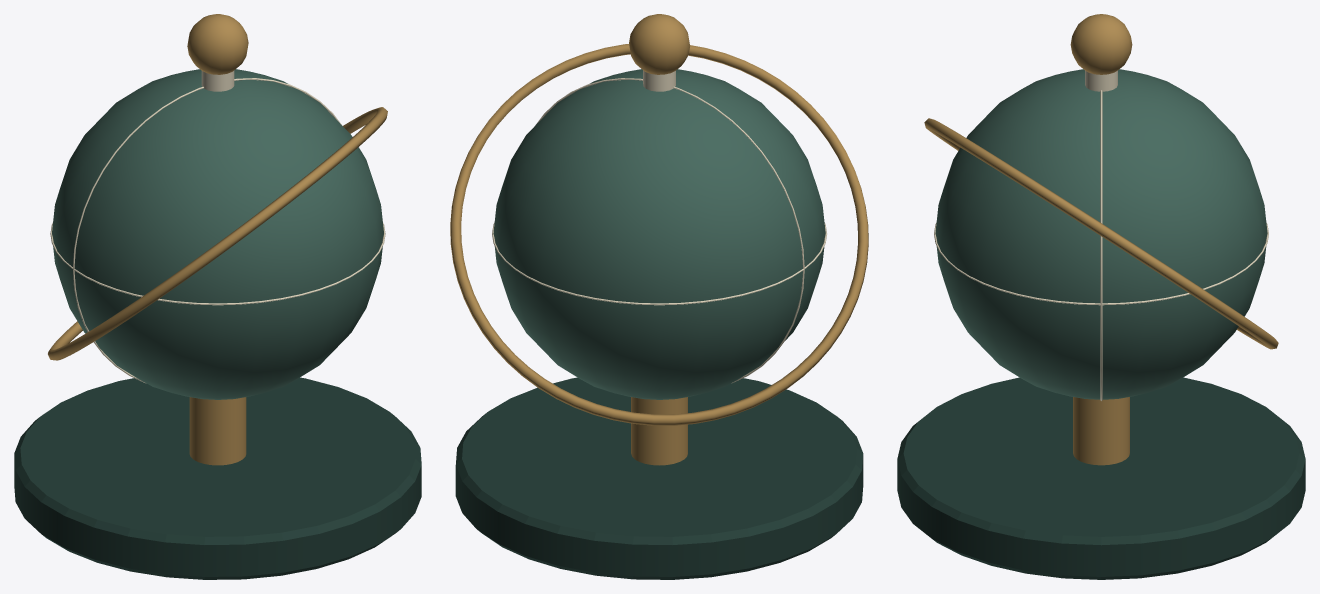
Rendered from orbit.glb.
3 views of the same model, side by side, from view 1: azimuth 30°, elevation 25°; view 2: azimuth 150°, elevation 25°; view 3: azimuth 270°, elevation 25° (orthographic).
Parts seen in each view (by area): view 1: orbit / Sage enamel, orbit / Graphite rubber and inset, orbit / Satin brass, orbit / Ivory powder coat; view 2: orbit / Sage enamel, orbit / Graphite rubber and inset, orbit / Satin brass, orbit / Ivory powder coat; view 3: orbit / Sage enamel, orbit / Graphite rubber and inset, orbit / Satin brass, orbit / Ivory powder coat.
Part boxes in pixels (x1=…): orbit / Sage enamel: x1=52, y1=69, x2=383, y2=399; orbit / Graphite rubber and inset: x1=14, y1=377, x2=421, y2=579; orbit / Satin brass: x1=48, y1=14, x2=387, y2=465; orbit / Ivory powder coat: x1=50, y1=70, x2=385, y2=383; orbit / Sage enamel: x1=493, y1=69, x2=825, y2=399; orbit / Graphite rubber and inset: x1=455, y1=377, x2=863, y2=579; orbit / Satin brass: x1=450, y1=14, x2=868, y2=465; orbit / Ivory powder coat: x1=492, y1=70, x2=826, y2=383; orbit / Sage enamel: x1=935, y1=69, x2=1267, y2=399; orbit / Graphite rubber and inset: x1=897, y1=377, x2=1305, y2=579; orbit / Satin brass: x1=924, y1=14, x2=1278, y2=465; orbit / Ivory powder coat: x1=934, y1=70, x2=1268, y2=400.
Bounding box in the file's own units: 0.86 × 1.12 × 0.86.
